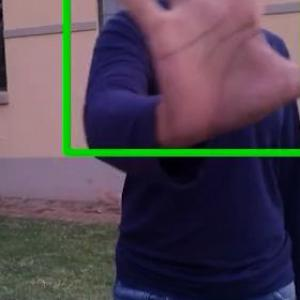follow_hand: (109, 0, 299, 155)
